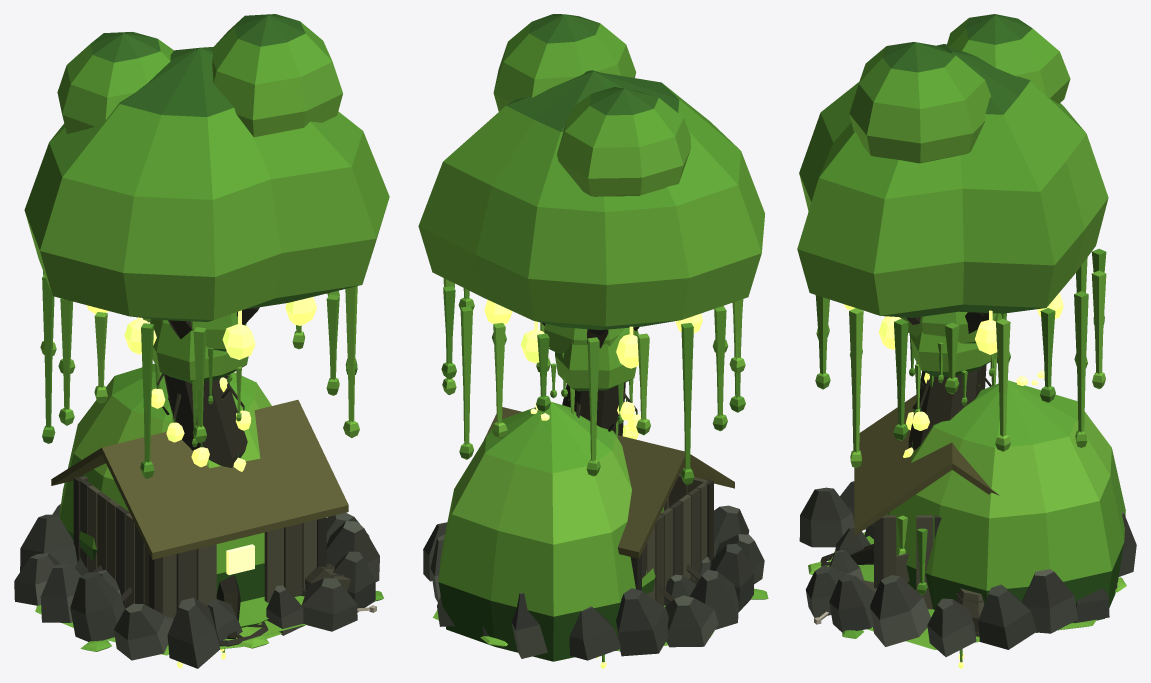
Rendered from slime.glb.
The picture shows the model from 3 angles, left to right: view 1: azimuth 30°, elevation 25°; view 2: azimuth 150°, elevation 25°; view 3: azimuth 270°, elevation 25°; orthographic projection. The views are drawn at different scales.
Parts seen in each view (by area): view 1: slime_giant_slime_tree_a, slime_swallowed_hut_a, slime_meteor_crater_a, slime_slime_tree_a, slime_fresh_meteor_a, slime_slime_tree_b, slime_slimed_cart_a, slime_bulb_tree_b, slime_bulb_tree_a; view 2: slime_giant_slime_tree_a, slime_swallowed_hut_a, slime_meteor_crater_a, slime_slime_tree_a, slime_slime_tree_b, slime_fresh_meteor_a; view 3: slime_giant_slime_tree_a, slime_swallowed_hut_a, slime_meteor_crater_a, slime_slime_tree_a, slime_slime_tree_b, slime_fresh_meteor_a, slime_slimed_cart_a, slime_bulb_tree_b.
Part boxes in pixels (left/top/right/bottom): slime_giant_slime_tree_a: left=24, top=14, right=389, bottom=640; slime_swallowed_hut_a: left=35, top=363, right=348, bottom=655; slime_meteor_crater_a: left=14, top=504, right=379, bottom=668; slime_slime_tree_a: left=150, top=319, right=248, bottom=447; slime_fresh_meteor_a: left=75, top=558, right=383, bottom=651; slime_slime_tree_b: left=157, top=312, right=246, bottom=404; slime_slimed_cart_a: left=92, top=564, right=350, bottom=646; slime_bulb_tree_b: left=151, top=373, right=251, bottom=467; slime_bulb_tree_a: left=166, top=393, right=246, bottom=471; slime_giant_slime_tree_a: left=418, top=14, right=764, bottom=585; slime_swallowed_hut_a: left=433, top=402, right=734, bottom=661; slime_meteor_crater_a: left=423, top=505, right=764, bottom=660; slime_slime_tree_a: left=550, top=327, right=638, bottom=423; slime_slime_tree_b: left=544, top=323, right=624, bottom=415; slime_fresh_meteor_a: left=480, top=557, right=768, bottom=646; slime_giant_slime_tree_a: left=797, top=14, right=1108, bottom=566; slime_swallowed_hut_a: left=828, top=370, right=1125, bottom=649; slime_meteor_crater_a: left=799, top=481, right=1136, bottom=656; slime_slime_tree_a: left=910, top=313, right=1002, bottom=413; slime_slime_tree_b: left=899, top=311, right=998, bottom=383; slime_fresh_meteor_a: left=808, top=523, right=1126, bottom=638; slime_slimed_cart_a: left=820, top=553, right=984, bottom=636; slime_bulb_tree_b: left=906, top=377, right=991, bottom=430.
Bounding box in the file's own units: 3.05 × 5.75 × 2.78.
